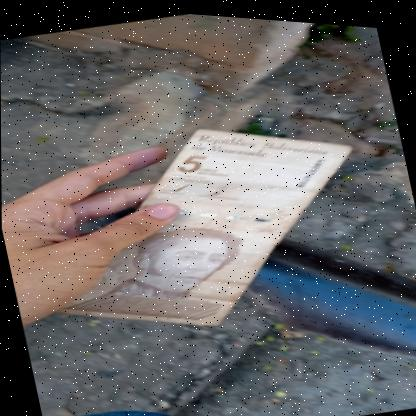five-front-vef: (21, 83, 386, 365)
